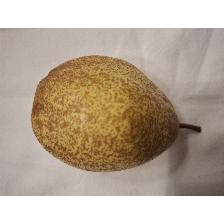Birne: (31, 54, 204, 174)
